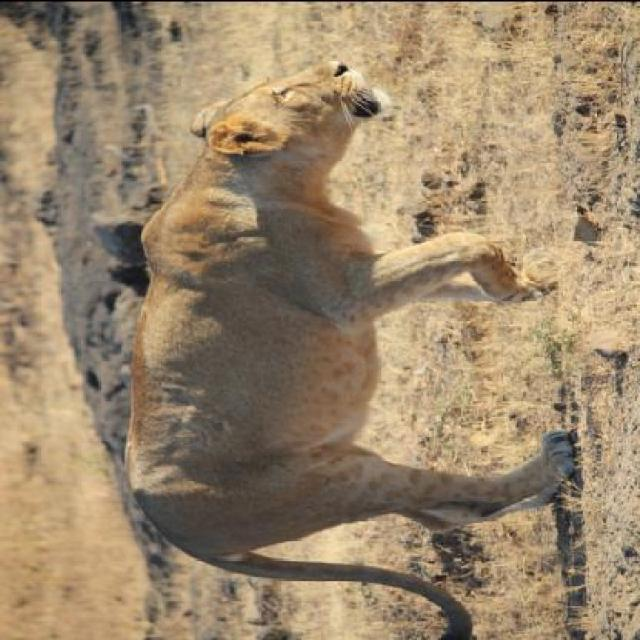Lion: (119, 34, 638, 638)
